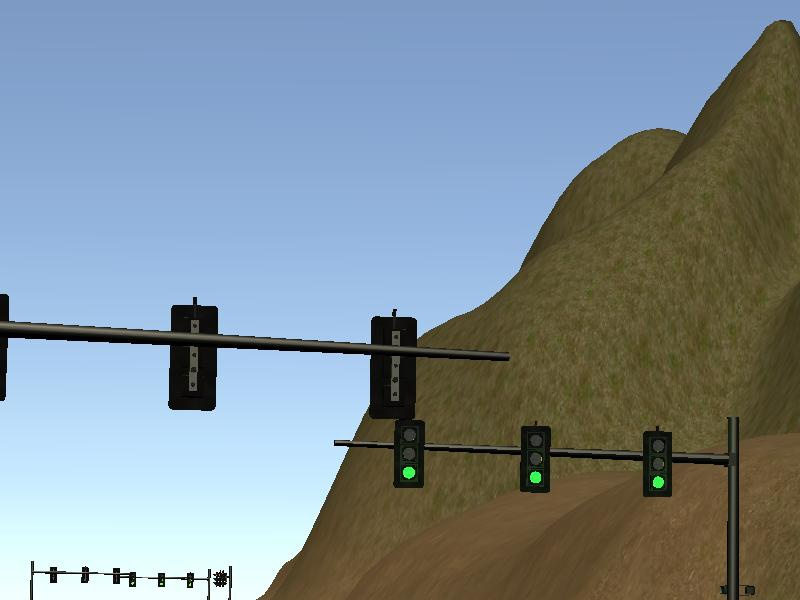Green: (396, 419, 424, 488), (644, 431, 671, 498), (522, 427, 549, 493), (129, 571, 136, 586), (157, 573, 164, 588), (187, 573, 193, 588)
